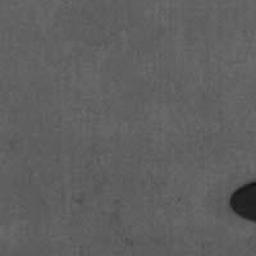Punching: (229, 180, 256, 223)
